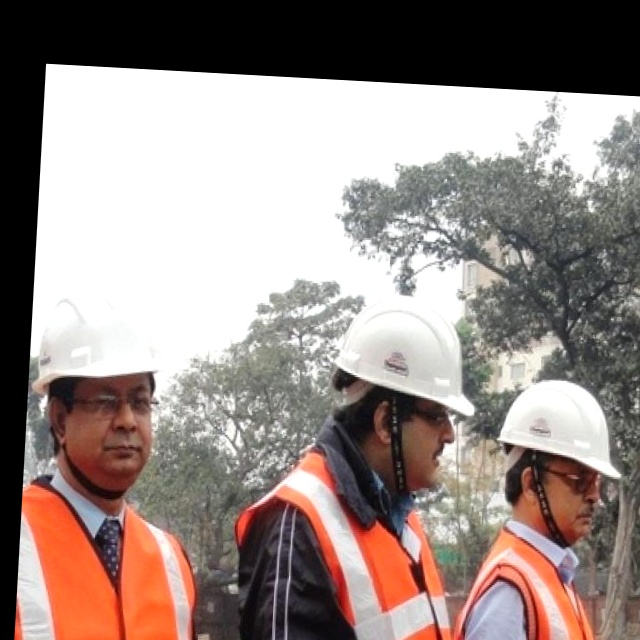Con_Casco: (338, 288, 468, 477)
Con_Chaleco: (14, 480, 200, 640), (464, 522, 606, 640)
